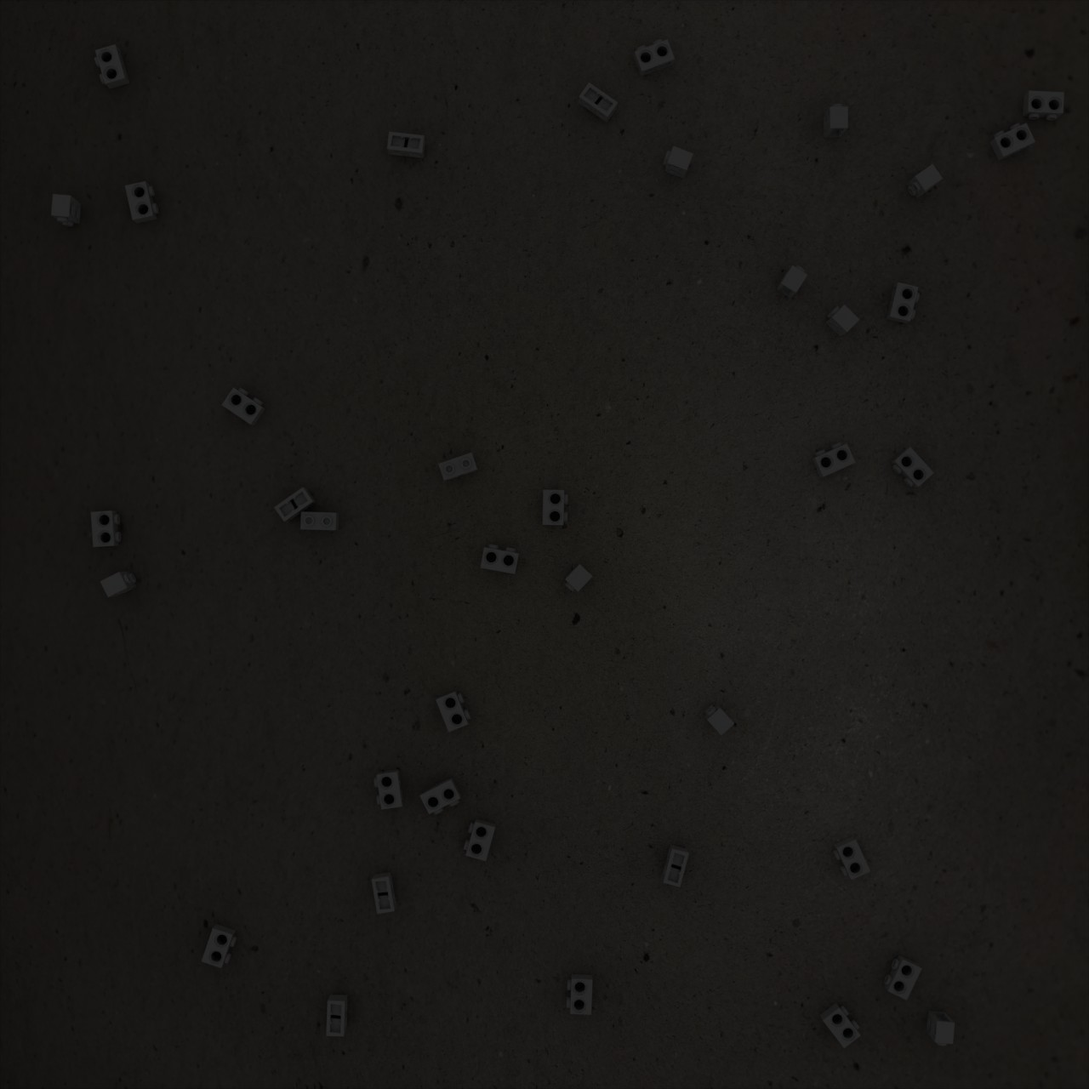lego: (820, 1002, 861, 1049), (891, 447, 934, 488), (221, 387, 266, 426), (990, 123, 1036, 161), (884, 955, 922, 1000), (833, 836, 871, 880), (578, 82, 618, 123), (94, 44, 130, 89), (419, 777, 461, 815), (201, 924, 237, 968), (812, 442, 856, 478), (634, 39, 675, 77), (274, 487, 316, 522), (436, 690, 471, 732), (125, 181, 159, 224), (886, 282, 920, 324), (463, 818, 496, 861), (907, 164, 943, 199), (1023, 90, 1064, 120), (374, 769, 404, 810), (661, 844, 689, 887), (480, 544, 519, 574), (438, 452, 478, 481), (825, 304, 860, 337), (566, 974, 593, 1015), (371, 872, 397, 914), (91, 511, 121, 547), (776, 265, 808, 298), (387, 131, 426, 158), (926, 1010, 955, 1046), (703, 704, 735, 736), (663, 146, 693, 179), (51, 194, 81, 227), (100, 571, 137, 597), (326, 994, 348, 1037), (542, 490, 568, 526), (824, 104, 848, 138), (565, 564, 593, 592), (300, 512, 339, 531)
